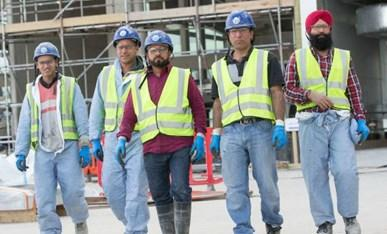helmet: (306, 10, 335, 36), (225, 10, 257, 32), (144, 31, 175, 49), (114, 25, 142, 43), (34, 43, 61, 61)
